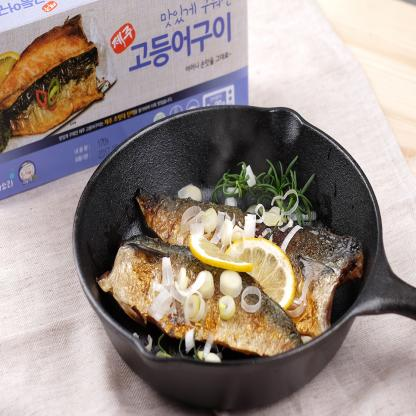Peixe: (102, 171, 352, 374)
